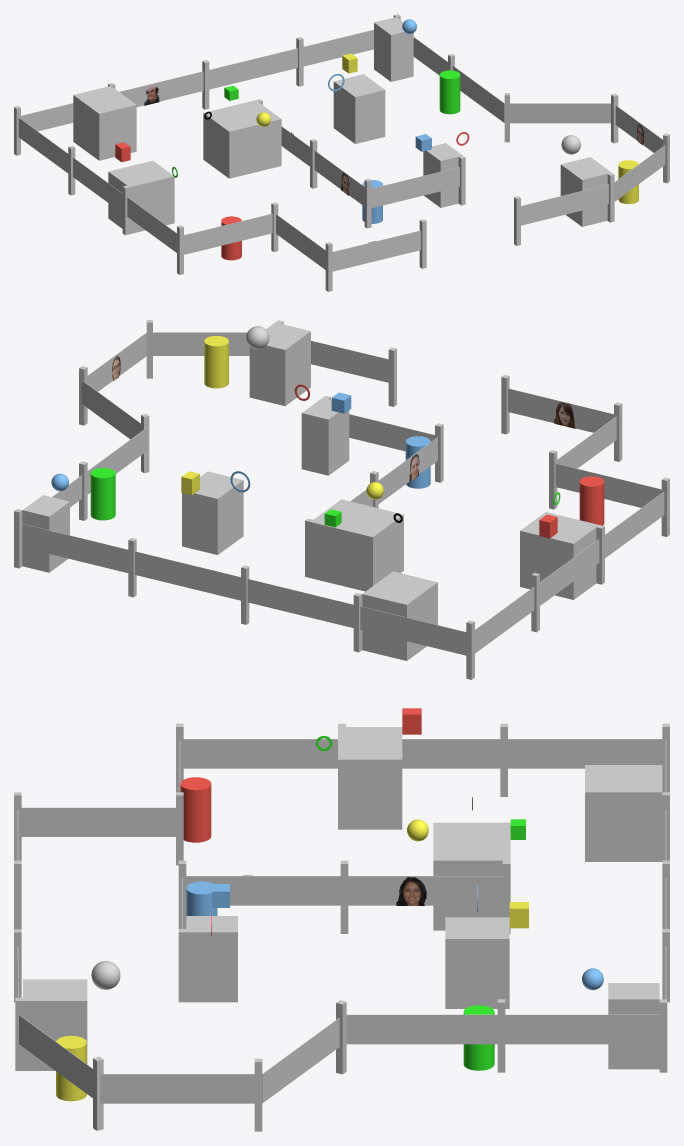
The model's file is rins_eval2.dae.
3 views of the same model, one above another, from view 1: azimuth 30°, elevation 25°; view 2: azimuth 150°, elevation 25°; view 3: azimuth 270°, elevation 25° (orthographic). The views are drawn at different scales.
Parts seen in each view (by area): view 1: Mesh44_Group44_Model, Mesh45_Group45_Model, Mesh47_Group47_Model, Mesh48_Group48_Model, Mesh1_Group2_Group1_Model, Mesh49_Group49_Model, Mesh17_Group18_Group17_Model, Mesh39_Group40_Group39_Model, Mesh23_Group24_Group23_Model, Mesh11_Group12_Group11_Model, Mesh27_Group28_Group27_Model, Mesh43_Group43_Model (+17 smaller); view 2: Mesh44_Group44_Model, Mesh47_Group47_Model, Mesh43_Group43_Model, Mesh48_Group48_Model, Mesh45_Group45_Model, Mesh46_Group46_Model, Mesh37_Group38_Group37_Model, Mesh5_Group6_Group5_Model, Mesh39_Group40_Group39_Model, Mesh41_Group42_Group41_Model, Mesh17_Group18_Group17_Model, Mesh27_Group28_Group27_Model (+17 smaller); view 3: Mesh45_Group45_Model, Mesh48_Group48_Model, Mesh47_Group47_Model, Mesh33_Group34_Group33_Model, Mesh3_Group4_Group3_Model, Mesh9_Group10_Group9_Model, Mesh7_Group8_Group7_Model, Mesh44_Group44_Model, Mesh29_Group30_Group29_Model, Mesh35_Group36_Group35_Model, Mesh15_Group16_Group15_Model, Mesh46_Group46_Model (+15 smaller).
Part boxes in pixels (x1,y1,x2,y2): Mesh44_Group44_Model: [203, 100, 281, 178]; Mesh45_Group45_Model: [73, 86, 136, 160]; Mesh47_Group47_Model: [333, 74, 385, 143]; Mesh48_Group48_Model: [108, 160, 174, 233]; Mesh1_Group2_Group1_Model: [504, 93, 610, 142]; Mesh49_Group49_Model: [374, 17, 413, 81]; Mesh17_Group18_Group17_Model: [332, 219, 426, 271]; Mesh39_Group40_Group39_Model: [202, 48, 297, 109]; Mesh23_Group24_Group23_Model: [371, 155, 465, 207]; Mesh11_Group12_Group11_Model: [521, 173, 614, 225]; Mesh27_Group28_Group27_Model: [184, 202, 278, 254]; Mesh43_Group43_Model: [560, 157, 611, 226]; Mesh44_Group44_Model: [310, 499, 403, 591]; Mesh47_Group47_Model: [182, 471, 243, 554]; Mesh43_Group43_Model: [249, 322, 310, 405]; Mesh48_Group48_Model: [520, 512, 598, 599]; Mesh45_Group45_Model: [362, 571, 437, 660]; Mesh46_Group46_Model: [301, 398, 349, 475]; Mesh37_Group38_Group37_Model: [247, 579, 362, 652]; Mesh5_Group6_Group5_Model: [360, 606, 474, 679]; Mesh39_Group40_Group39_Model: [135, 551, 249, 624]; Mesh41_Group42_Group41_Model: [22, 524, 136, 597]; Mesh17_Group18_Group17_Model: [501, 375, 613, 434]; Mesh27_Group28_Group27_Model: [549, 450, 661, 509]; Mesh45_Group45_Model: [585, 765, 662, 861]; Mesh48_Group48_Model: [338, 727, 402, 829]; Mesh47_Group47_Model: [445, 917, 509, 1008]; Mesh33_Group34_Group33_Model: [505, 999, 667, 1072]; Mesh3_Group4_Group3_Model: [346, 999, 505, 1072]; Mesh9_Group10_Group9_Model: [100, 1058, 262, 1131]; Mesh7_Group8_Group7_Model: [14, 792, 175, 860]; Mesh44_Group44_Model: [433, 822, 510, 930]; Mesh29_Group30_Group29_Model: [176, 723, 337, 792]; Mesh35_Group36_Group35_Model: [500, 723, 662, 796]; Mesh15_Group16_Group15_Model: [340, 860, 502, 933]; Mesh46_Group46_Model: [186, 916, 237, 1002].
Bounding box in the file's own units: 6.22 × 5.1 × 0.8505.
Materials: 11 (5 with a texture image).
